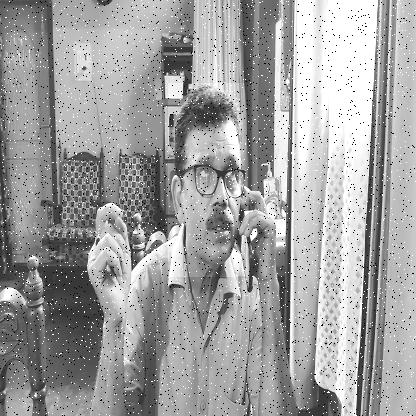Distracted: (168, 83, 249, 277)
